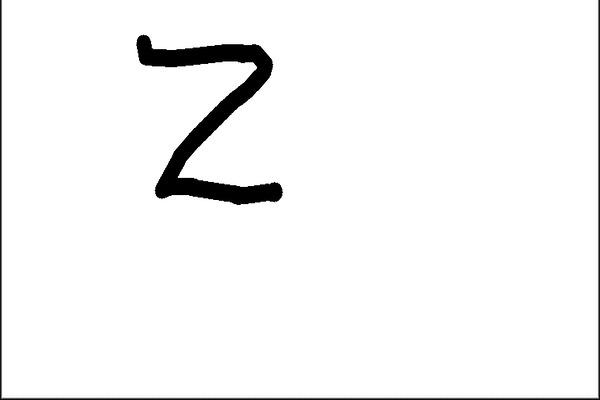Z: (131, 30, 291, 217)
